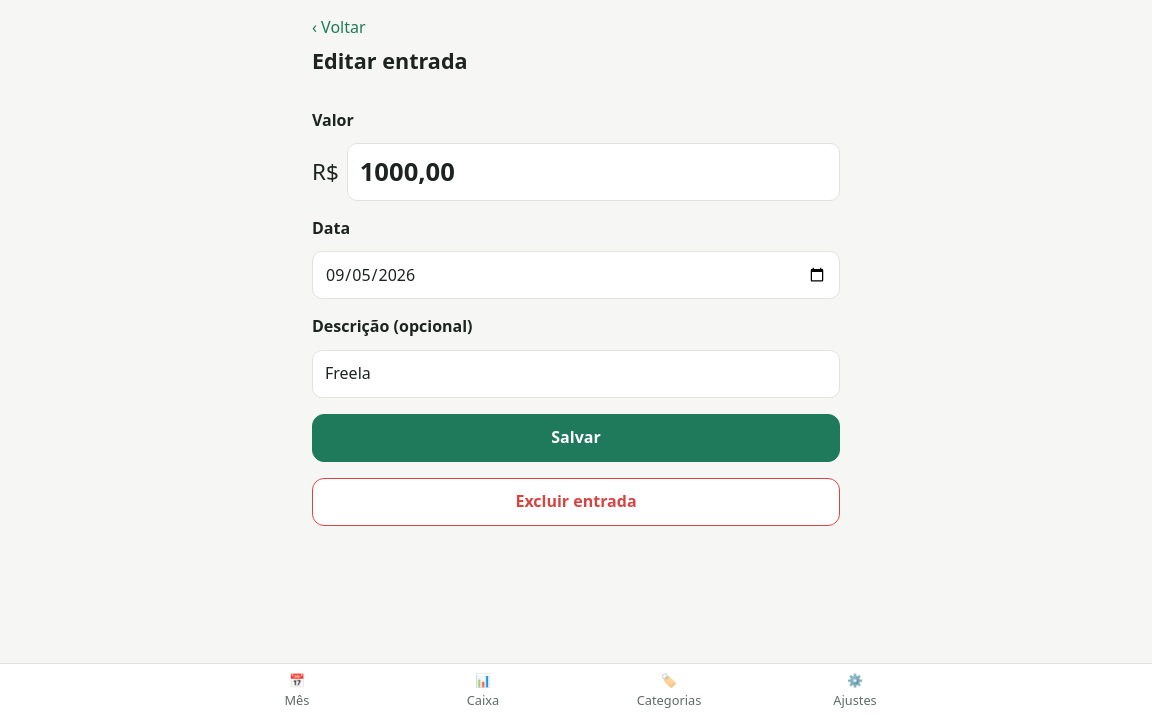
Test: entrada › edita entrada existente
The width and height of the screenshot is (1152, 720).
Replace the text in the field labelled "Valor" with "1500" at (593, 172), box [347, 143, 840, 201]
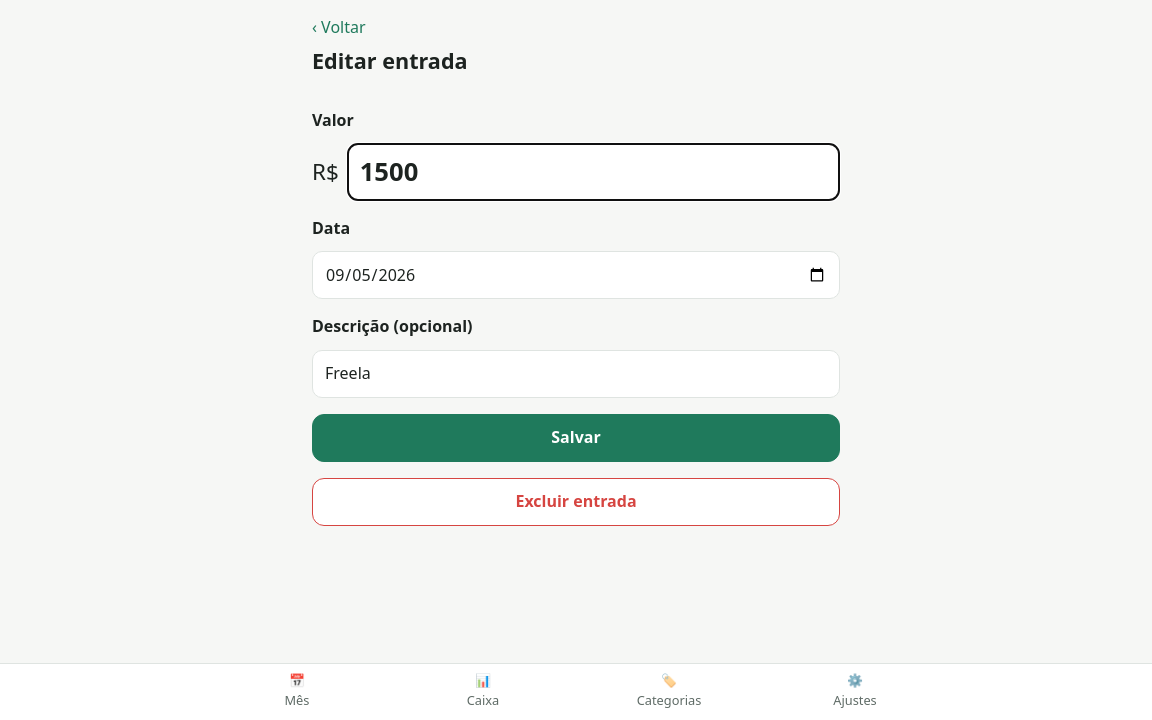
Click the button "Salvar" at (576, 438), box [312, 414, 840, 462]
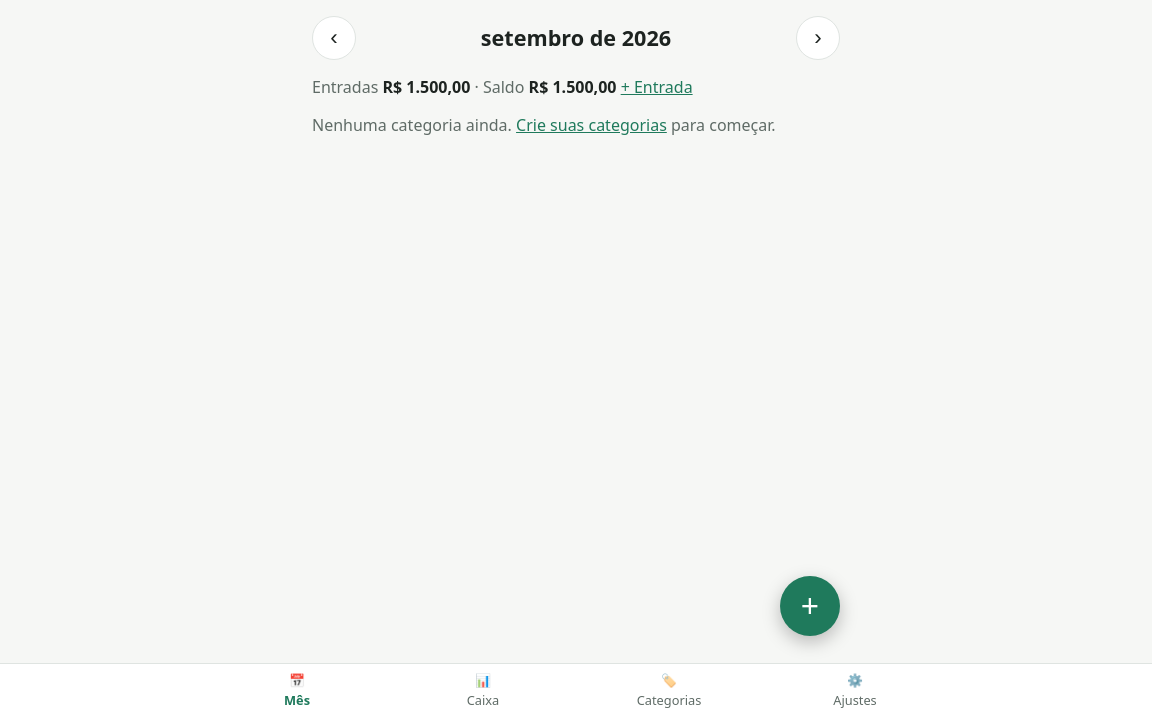
Check: the text "Entradas R$ 1.500,00 · Saldo R$ 1.500,00 + Entrada" is shown, box [312, 76, 693, 98]
